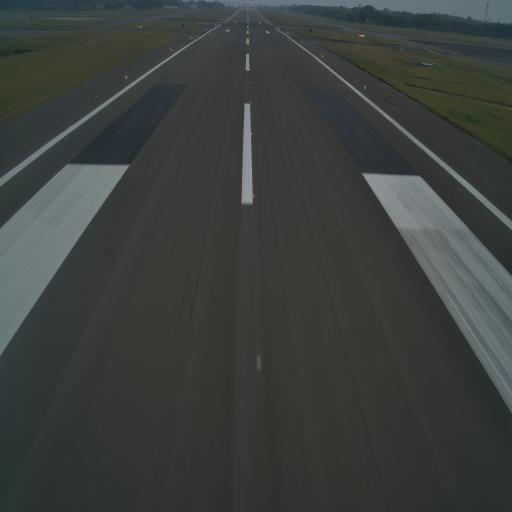on: (253, 354, 267, 374), (124, 74, 130, 81), (250, 130, 254, 138), (251, 193, 256, 199), (363, 84, 367, 90), (169, 47, 173, 52), (190, 36, 194, 41), (249, 79, 252, 85), (248, 66, 251, 72), (249, 100, 252, 105), (321, 54, 324, 58), (248, 51, 251, 55), (301, 41, 304, 44)
